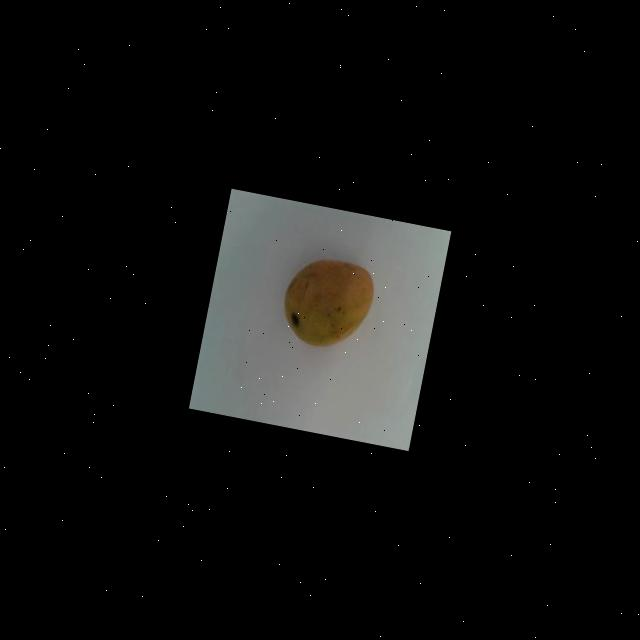Mango: (276, 252, 378, 356)
